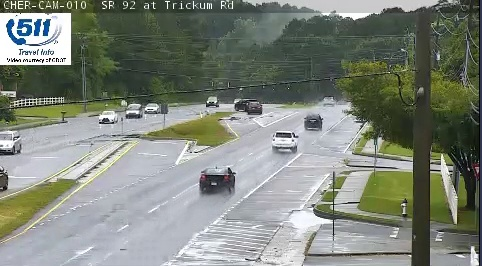car: (199, 167, 235, 190), (272, 130, 297, 149), (304, 114, 322, 129)
